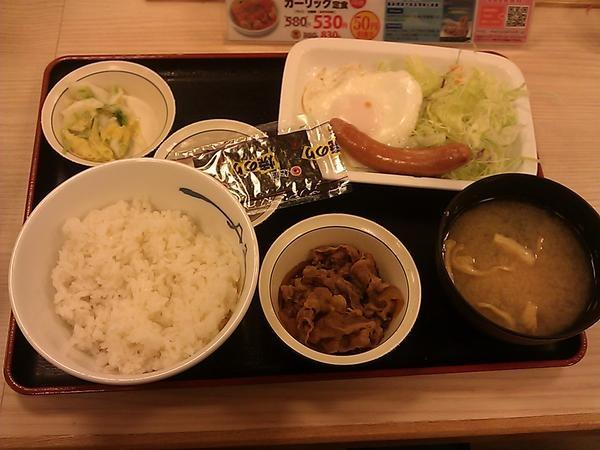rice: (51, 199, 242, 376)
